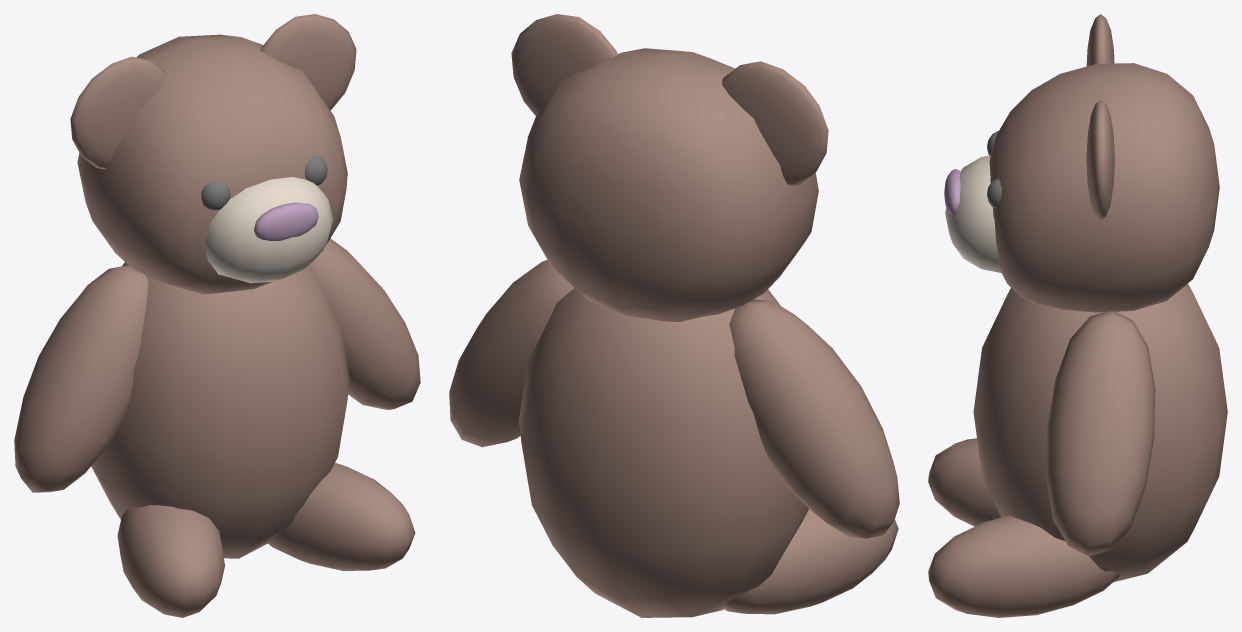
Rendered from teddybear.fbx.
3 views of the same model, side by side, from view 1: azimuth 30°, elevation 25°; view 2: azimuth 150°, elevation 25°; view 3: azimuth 270°, elevation 25° (orthographic). The views are drawn at different scales.
Parts seen in each view (by area): view 1: bear_combined; view 2: bear_combined; view 3: bear_combined.
Boxes of the visible parts, x1,y1,x2,y2 form: bear_combined: (14,14,420,617); bear_combined: (449,14,899,617); bear_combined: (928,14,1227,617).
Size of the model in its own units: 1.57 by 1.95 by 1.04.
